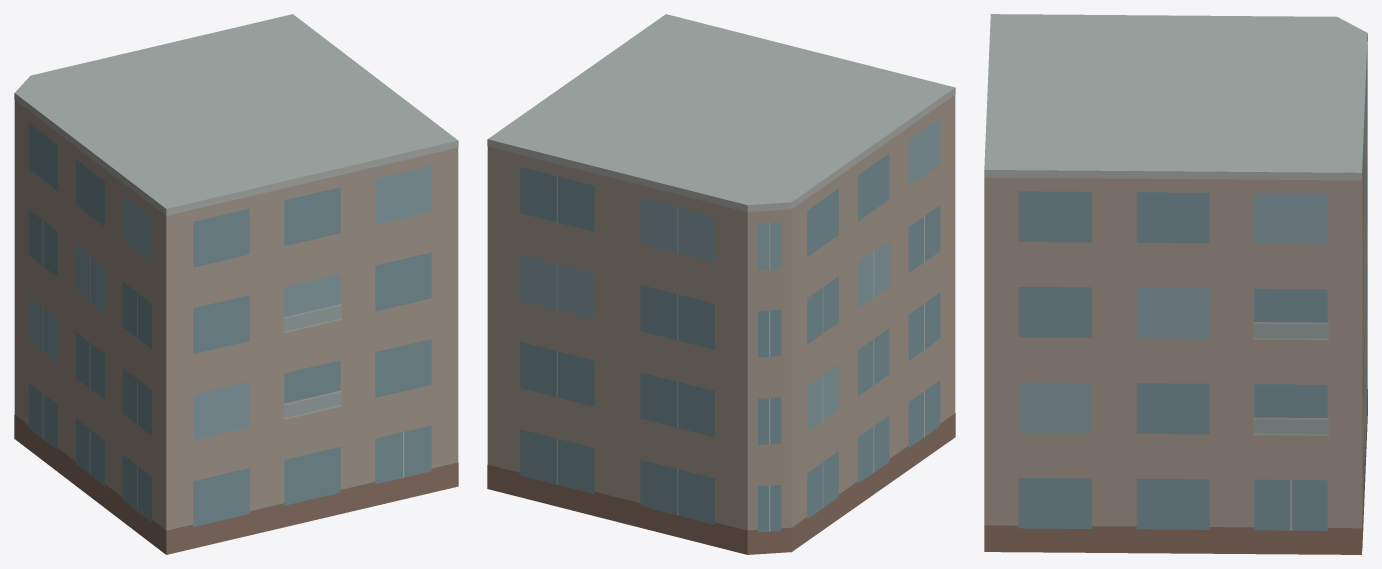
The model's file is survey-upis-32879008.glb.
3 views of the same model, side by side, from view 1: azimuth 30°, elevation 25°; view 2: azimuth 150°, elevation 25°; view 3: azimuth 270°, elevation 25° (orthographic). The views are drawn at different scales.
Parts seen in each view (by area): view 1: survey-upis-32879008.tmp; view 2: survey-upis-32879008.tmp; view 3: survey-upis-32879008.tmp.
Boxes of the visible parts, bbox=[...] form: survey-upis-32879008.tmp: bbox=[14, 14, 458, 554]; survey-upis-32879008.tmp: bbox=[487, 14, 955, 554]; survey-upis-32879008.tmp: bbox=[984, 14, 1367, 554].
Size of the model in its own units: 10.9 by 12.2 by 11.11.
